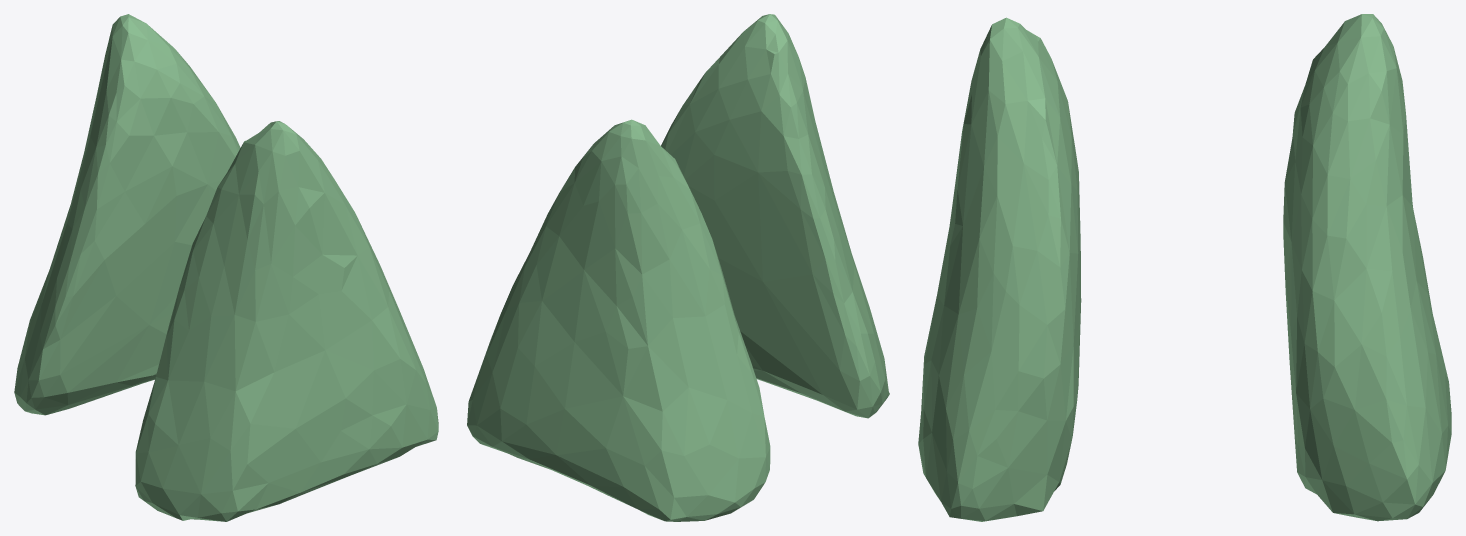
The picture shows the model from 3 angles, left to right: view 1: azimuth 30°, elevation 25°; view 2: azimuth 150°, elevation 25°; view 3: azimuth 270°, elevation 25°; orthographic projection. The views are drawn at different scales.
Visible parts, largest first — view 1: 827.obj; view 2: 827.obj; view 3: 827.obj.
Boxes of the visible parts, x1,y1,x2,y2 form: 827.obj: [14, 14, 438, 521]; 827.obj: [467, 14, 889, 521]; 827.obj: [918, 14, 1451, 521].
Bounding box in the file's own units: 822 × 1086 × 1145.
